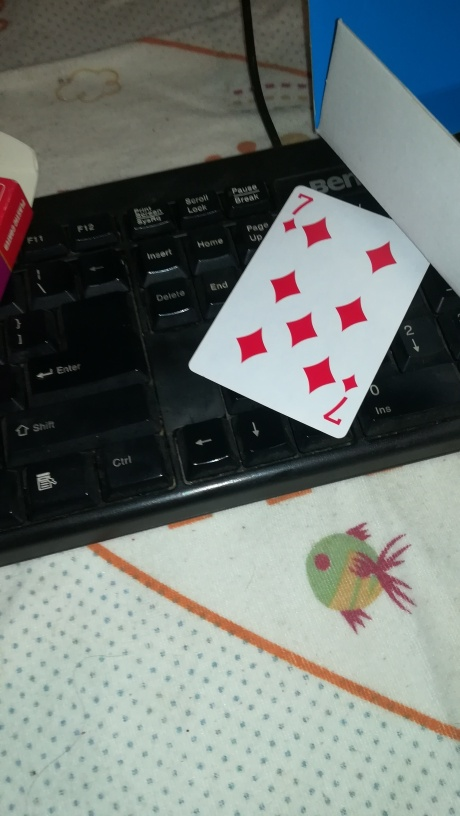fk 7: (187, 183, 435, 439)
